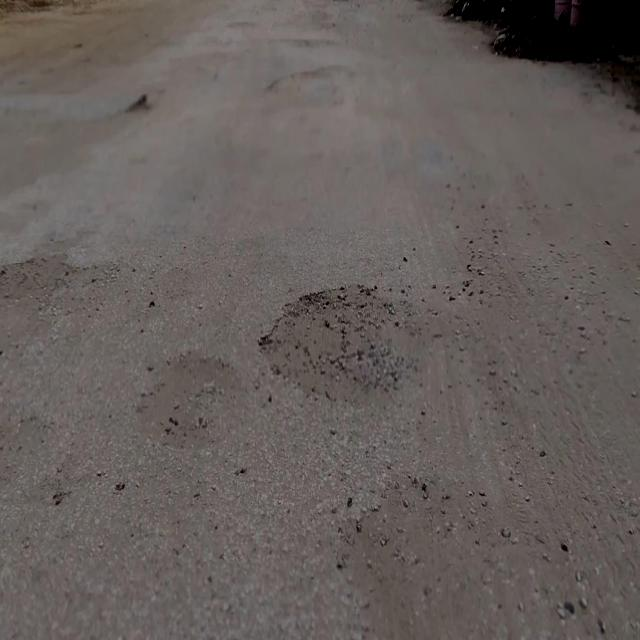Potholes: (259, 280, 408, 412)
